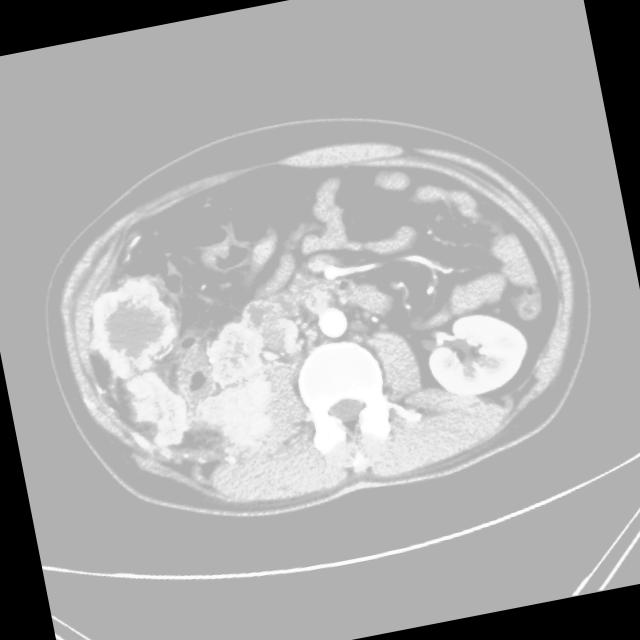TUMOR: (76, 164, 533, 479)
